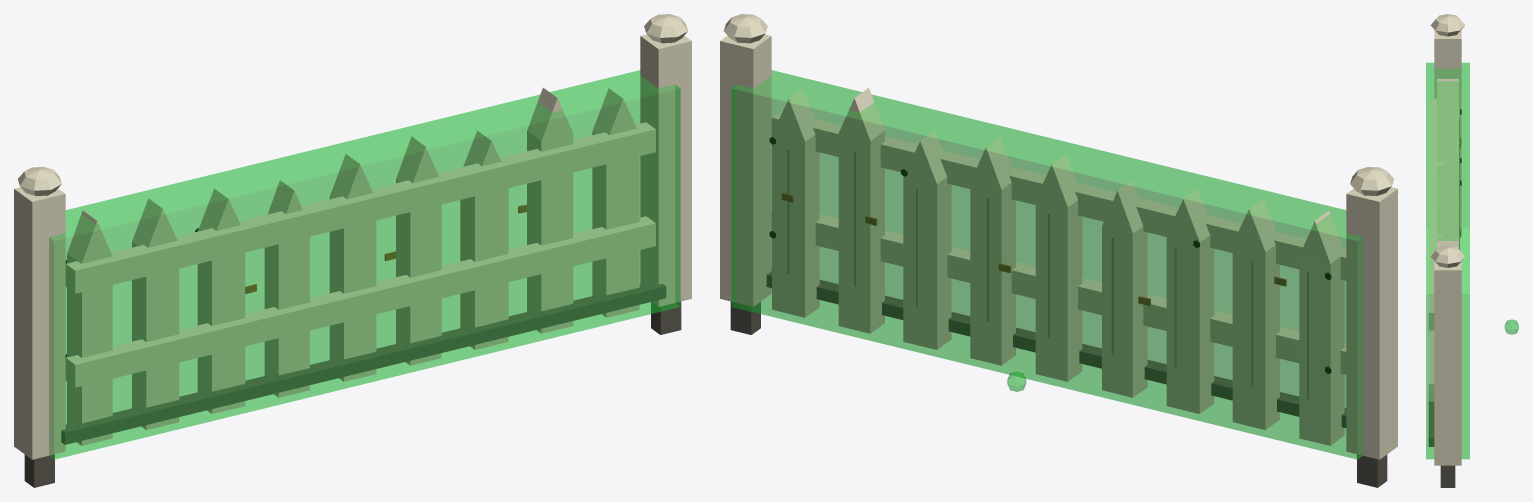
Rendered from modular_picket_fence_panel_low_wall.obj.
3 views of the same model, side by side, from view 1: azimuth 30°, elevation 25°; view 2: azimuth 150°, elevation 25°; view 3: azimuth 270°, elevation 25° (orthographic). The views are drawn at different scales.
Visible parts, largest first — view 1: Guide_Dog_Blocking_Volume_delete_or_hide, Back_upper_horizontal_support_rail, Back_lower_horizontal_support_rail, Left_square_fence_post, Right_square_fence_post, Back_bottom_ground_kick_board, Picket_08_pointed_board_rect_board, Picket_07_pointed_board_rect_board, Picket_03_pointed_board_rect_board, Picket_02_pointed_board_rect_board, Picket_09_pointed_board_rect_board, Picket_05_pointed_board_rect_board (+15 smaller); view 2: Guide_Dog_Blocking_Volume_delete_or_hide, Left_square_fence_post, Right_square_fence_post, Picket_08_pointed_board_rect_board, Picket_02_pointed_board_rect_board, Back_upper_horizontal_support_rail, Picket_03_pointed_board_rect_board, Picket_05_pointed_board_rect_board, Picket_09_pointed_board_rect_board, Picket_01_pointed_board_rect_board, Picket_07_pointed_board_rect_board, Picket_06_pointed_board_rect_board (+16 smaller); view 3: Guide_Dog_Blocking_Volume_delete_or_hide, Right_square_fence_post, Back_upper_horizontal_support_rail, Left_square_fence_post, Picket_06_pointed_board_pointed_cap, Picket_02_pointed_board_pointed_cap, Picket_03_pointed_board_pointed_cap, Picket_01_pointed_board_pointed_cap, Right_post_rounded_cap, Left_post_rounded_cap, Picket_05_pointed_board_pointed_cap, Back_lower_horizontal_support_rail (+5 smaller).
Part boxes in pixels (box(x1,y1,x2,y2)): Guide_Dog_Blocking_Volume_delete_or_hide: box(49, 70, 680, 459); Back_upper_horizontal_support_rail: box(65, 122, 655, 293); Back_lower_horizontal_support_rail: box(65, 216, 655, 387); Left_square_fence_post: box(14, 187, 65, 459); Right_square_fence_post: box(640, 34, 691, 306); Back_bottom_ground_kick_board: box(61, 281, 666, 444); Picket_08_pointed_board_rect_board: box(527, 131, 573, 333); Picket_07_pointed_board_rect_board: box(460, 188, 508, 349); Picket_03_pointed_board_rect_board: box(197, 252, 245, 413); Picket_02_pointed_board_rect_board: box(132, 242, 179, 429); Picket_09_pointed_board_rect_board: box(592, 132, 639, 317); Picket_05_pointed_board_rect_board: box(329, 197, 376, 381); Guide_Dog_Blocking_Volume_delete_or_hide: box(731, 70, 1362, 459); Left_square_fence_post: box(1346, 187, 1397, 459); Right_square_fence_post: box(720, 34, 771, 306); Picket_08_pointed_board_rect_board: box(838, 131, 884, 333); Picket_02_pointed_board_rect_board: box(1232, 244, 1279, 429); Back_upper_horizontal_support_rail: box(771, 111, 1346, 280); Picket_03_pointed_board_rect_board: box(1166, 234, 1214, 413); Picket_05_pointed_board_rect_board: box(1035, 200, 1082, 381); Picket_09_pointed_board_rect_board: box(772, 134, 819, 317); Picket_01_pointed_board_rect_board: box(1299, 256, 1344, 445); Picket_07_pointed_board_rect_board: box(903, 176, 951, 349); Picket_06_pointed_board_rect_board: box(970, 182, 1015, 365); Guide_Dog_Blocking_Volume_delete_or_hide: box(1426, 62, 1469, 459); Right_square_fence_post: box(1434, 261, 1461, 465); Back_upper_horizontal_support_rail: box(1428, 98, 1443, 330); Left_square_fence_post: box(1434, 30, 1461, 233); Picket_06_pointed_board_pointed_cap: box(1437, 205, 1458, 236); Picket_02_pointed_board_pointed_cap: box(1437, 106, 1458, 135); Picket_03_pointed_board_pointed_cap: box(1437, 135, 1458, 165); Picket_01_pointed_board_pointed_cap: box(1437, 79, 1458, 106); Right_post_rounded_cap: box(1430, 245, 1464, 267); Left_post_rounded_cap: box(1430, 14, 1464, 36); Picket_05_pointed_board_pointed_cap: box(1437, 181, 1458, 204); Back_lower_horizontal_support_rail: box(1428, 330, 1434, 401).
Size of what is drawn, in the model's own units: 3.19 by 1.43 by 0.509.
